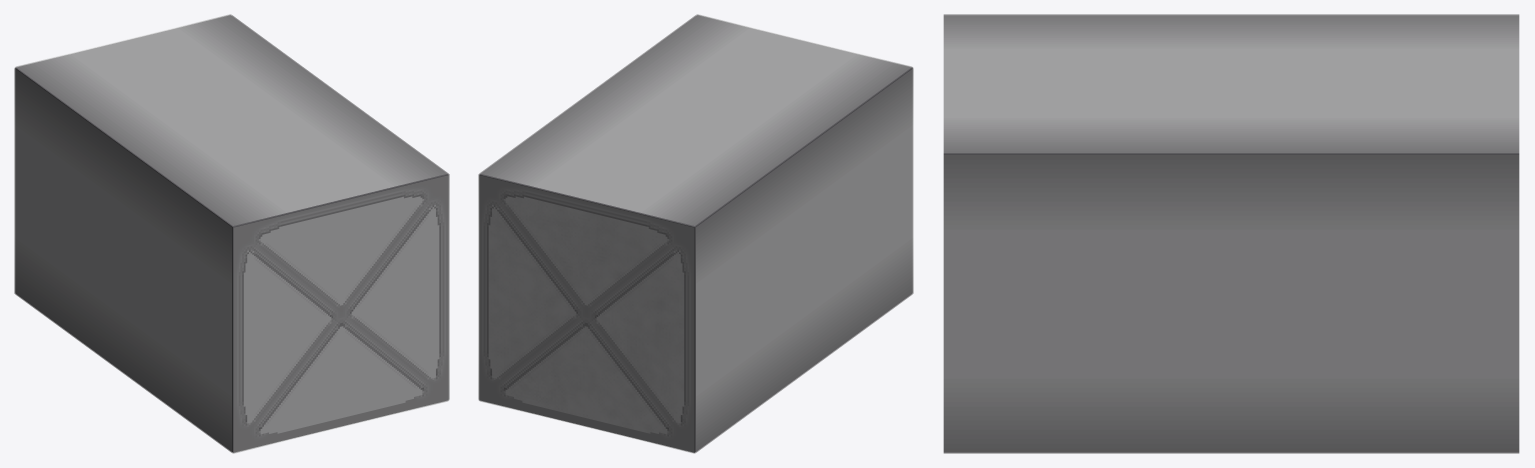
File: steamengine.obj
The picture shows the model from 3 angles, left to right: view 1: azimuth 30°, elevation 25°; view 2: azimuth 150°, elevation 25°; view 3: azimuth 270°, elevation 25°; orthographic projection. The views are drawn at different scales.
Parts seen in each view (by area): view 1: Steamengine1, Steamengine5, Steamengine2, Steamengine3, Steamengine6; view 2: Steamengine1, Steamengine5, Steamengine7, Steamengine3, Steamengine6; view 3: Steamengine1, Steamengine4, Steamengine3, Steamengine6.
Boxes of the visible parts, x1,y1,x2,y2 form: Steamengine1: [15, 15, 448, 452]; Steamengine5: [14, 68, 231, 452]; Steamengine2: [233, 175, 449, 452]; Steamengine3: [16, 14, 448, 225]; Steamengine6: [17, 295, 447, 453]; Steamengine1: [479, 15, 912, 452]; Steamengine5: [696, 68, 913, 452]; Steamengine7: [478, 175, 694, 452]; Steamengine3: [479, 14, 911, 225]; Steamengine6: [480, 295, 910, 453]; Steamengine1: [943, 15, 1519, 452]; Steamengine4: [943, 155, 1519, 453]; Steamengine3: [943, 14, 1519, 152]; Steamengine6: [944, 453, 1518, 453].
Size of the model in its own units: 4.04 by 4.04 by 7.04.
Materials: 5 (4 with a texture image).
